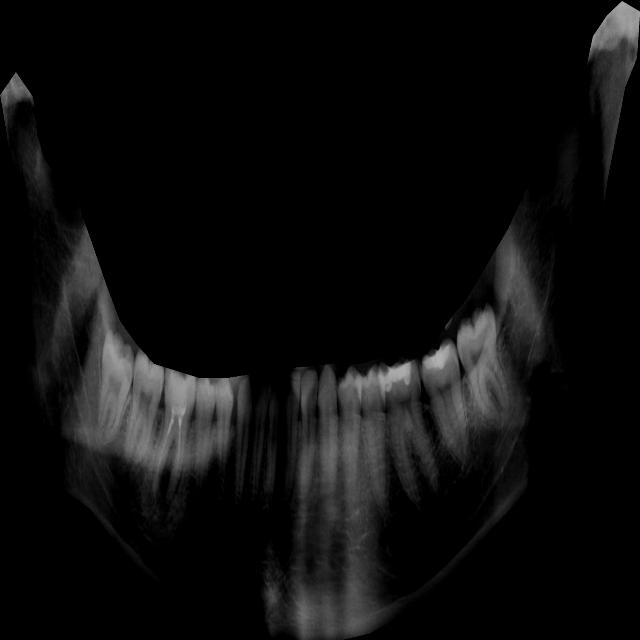mandibula: (0, 1, 640, 640)
